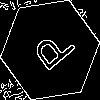P: (25, 25, 77, 79)
